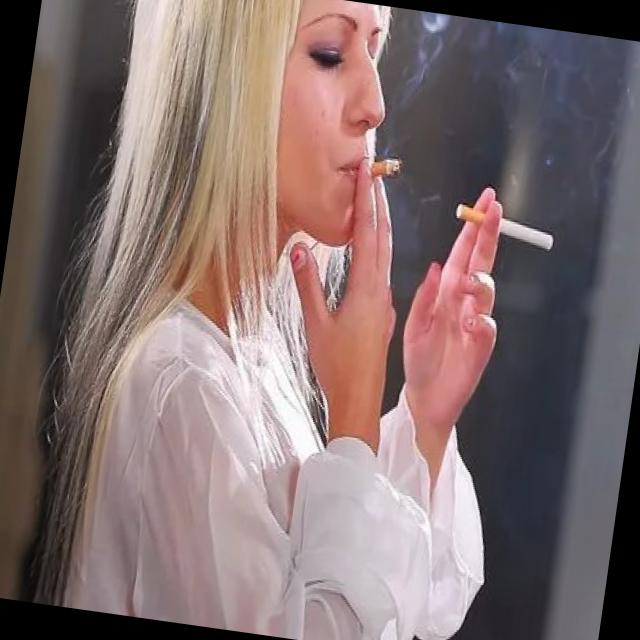cigarette: (443, 197, 560, 258), (361, 147, 408, 192)
